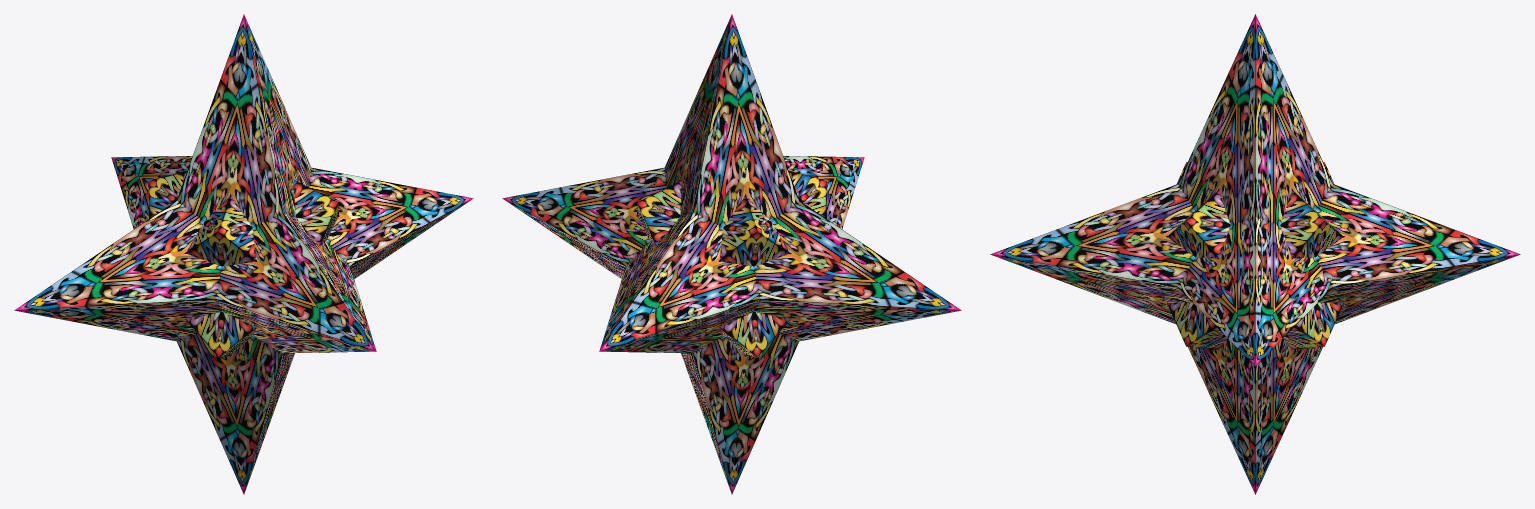
File: 33GreatHexacronicIcositetrahedron.obj
3 views of the same model, side by side, from view 1: azimuth 30°, elevation 25°; view 2: azimuth 150°, elevation 25°; view 3: azimuth 270°, elevation 25° (orthographic).
Size of the model in its own units: 2.83 by 2.83 by 2.83.
1 material, 1 textured.
